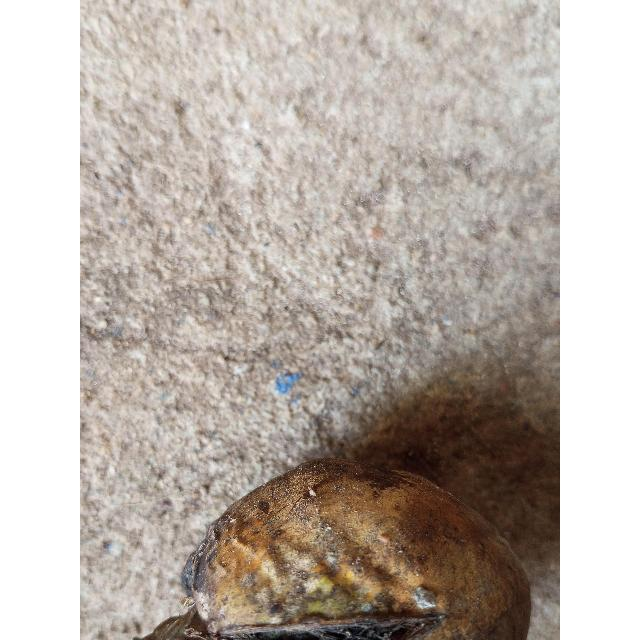damaged: (163, 457, 532, 640)
